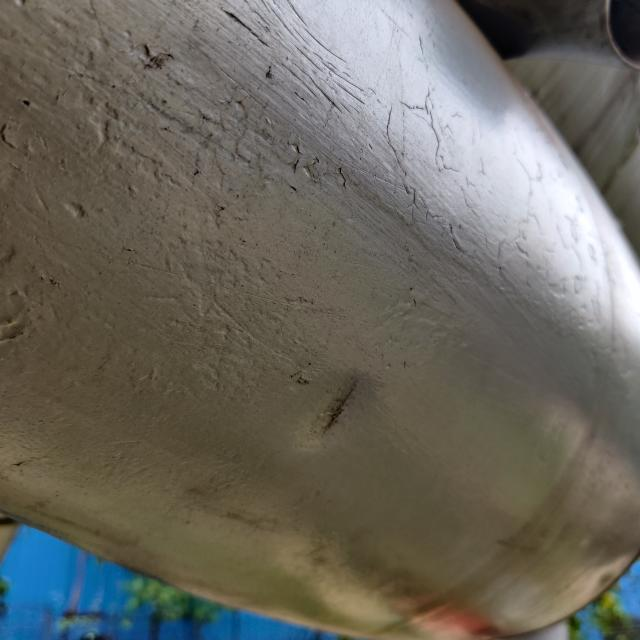dent: (288, 344, 397, 458)
